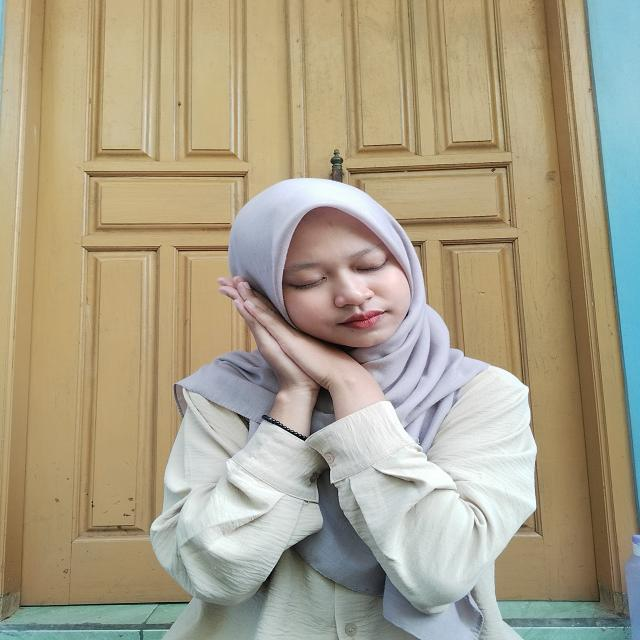tidur: (200, 274, 390, 446)
